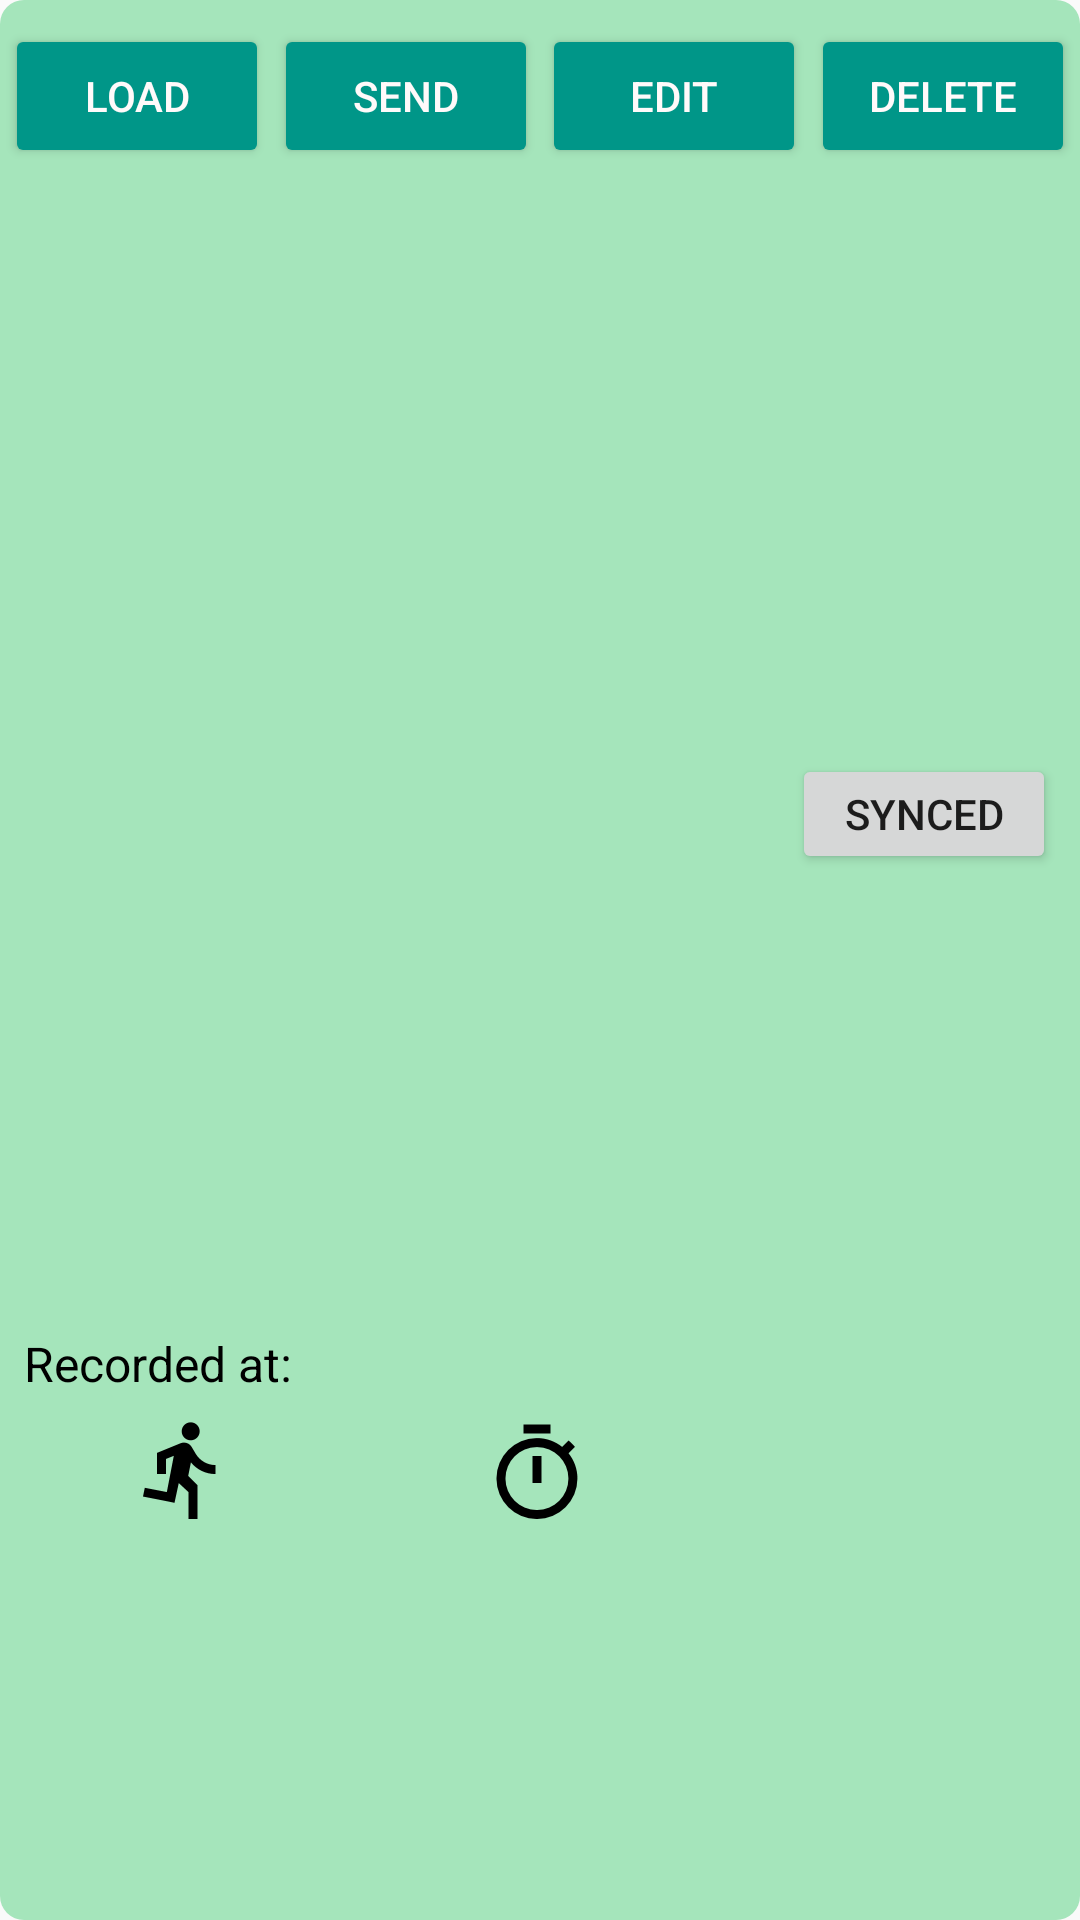

Point at icon controls on the screen. Image size 1080x1920, points as [x,y].
directions run: [179,1470]
timer: [537,1471]
